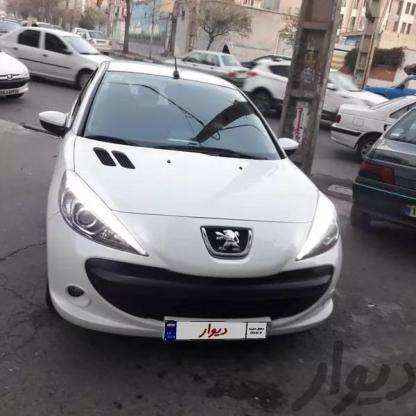Car: (40, 57, 357, 374), (6, 16, 148, 124), (242, 57, 372, 165), (155, 35, 280, 140), (349, 103, 416, 251), (326, 86, 416, 191), (0, 43, 58, 118)
